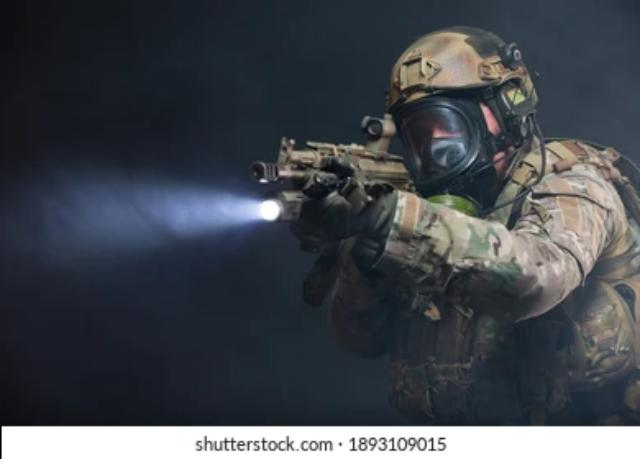other: (335, 50, 637, 337)
